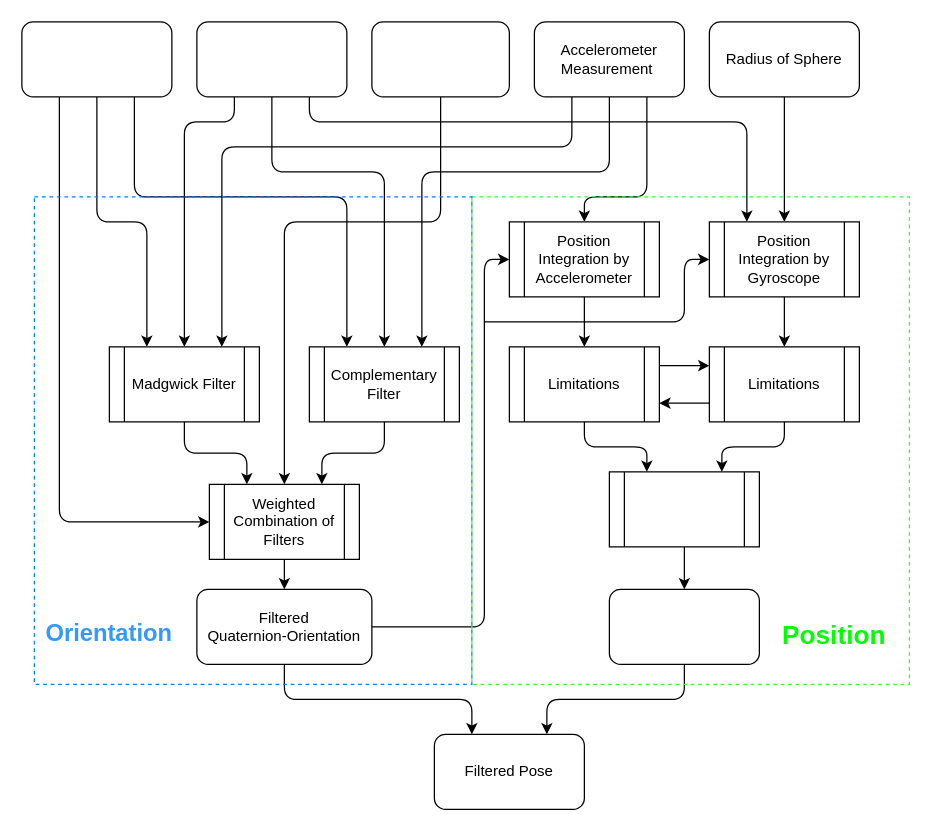
Image size: 931x831. Some labels were removed from this diagram. Each missing label, with the centre of its shape:
Filterd Position: the point at 683,626
Fusion: the point at 683,509
Gain of Filter: the point at 440,59
Gyroscope Measurment: the point at 271,59
Last Attitude: the point at 96,59
